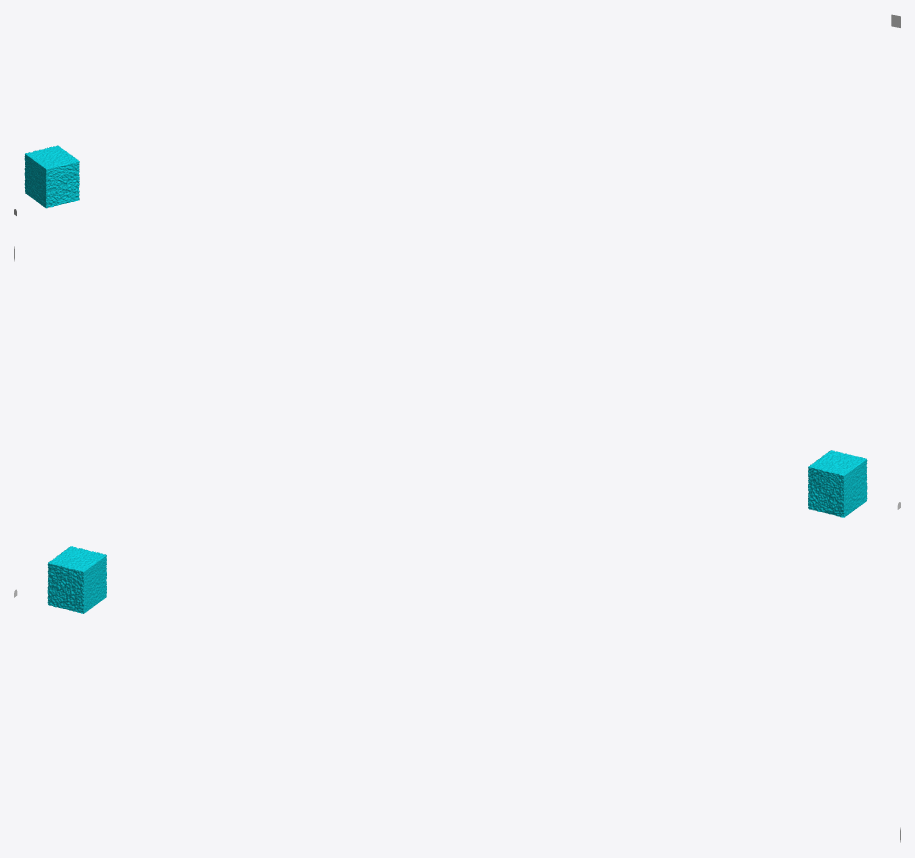
File: Stage(parts).fbx
3 renders of one model, top to bottom at view 1: azimuth 30°, elevation 25°; view 2: azimuth 150°, elevation 25°; view 3: azimuth 330°, elevation 25°, orthographic. The views are drawn at different scales.
Visible parts, largest first — view 1: Plane.111; view 2: Plane.111; view 3: Plane.111.
Boxes of the visible parts, <box> form: Plane.111: <box>24,145,79,208</box>; Plane.111: <box>808,450,867,517</box>; Plane.111: <box>47,546,106,613</box>.
Bounding box in the file's own units: 5772 × 256 × 617.
